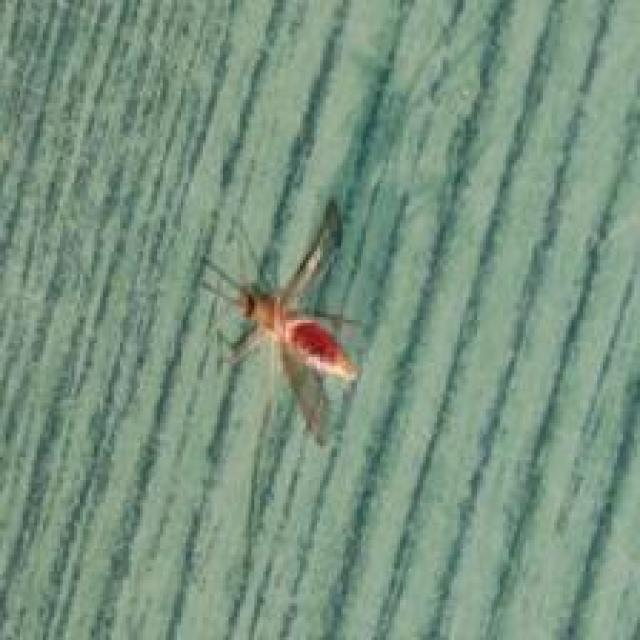Culex: (197, 196, 366, 447)
